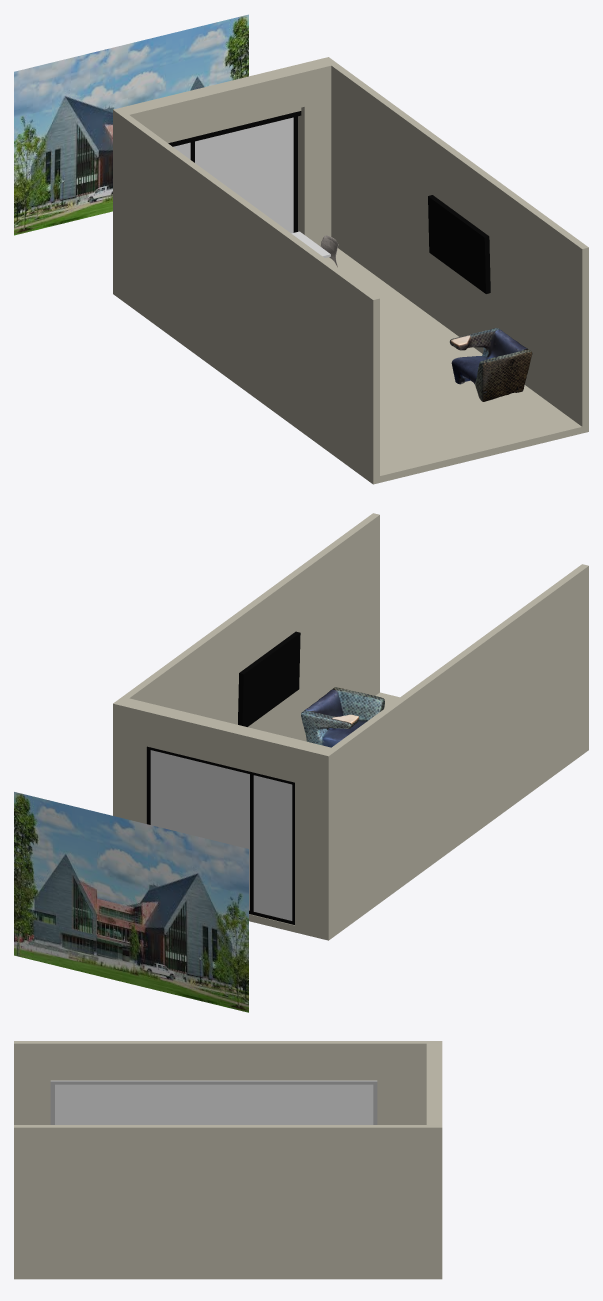
File: lobby.fbx
3 views of the same model, one above another, from view 1: azimuth 30°, elevation 25°; view 2: azimuth 150°, elevation 25°; view 3: azimuth 270°, elevation 25° (orthographic). The views are drawn at different scales.
Parts seen in each view (by area): view 1: Wall, BackgroundImage, Windows, chair.001, TV; view 2: Wall, BackgroundImage, Windows, TV, chair.001; view 3: Wall, WhiteBoard.
Boxes of the visible parts, x1,y1,x2,y2 form: Wall: [113, 57, 588, 484]; BackgroundImage: [14, 14, 248, 235]; Windows: [173, 116, 297, 233]; chair.001: [449, 328, 532, 401]; TV: [428, 195, 490, 293]; Wall: [113, 513, 588, 940]; BackgroundImage: [14, 792, 248, 1012]; Windows: [146, 746, 294, 924]; TV: [238, 631, 300, 726]; chair.001: [301, 687, 384, 747]; Wall: [14, 1041, 442, 1279]; WhiteBoard: [50, 1080, 377, 1124].
Bounding box in the file's own units: 384 × 295 × 989.
